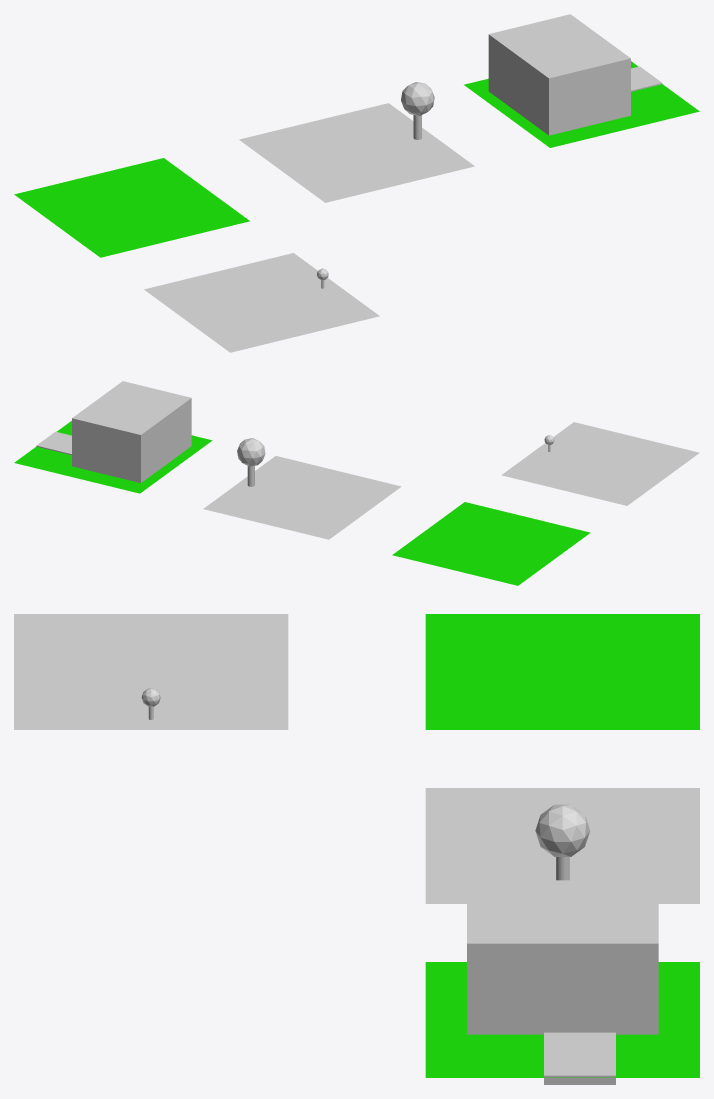
Rendered from tiles.fbx.
3 views of the same model, one above another, from view 1: azimuth 30°, elevation 25°; view 2: azimuth 150°, elevation 25°; view 3: azimuth 270°, elevation 25° (orthographic). The views are drawn at different scales.
Visible parts, largest first — view 1: Forest, Cube, Sapling, Plains, House; view 2: Forest, Cube, Sapling, Plains, House, Cube.001; view 3: Plains, Sapling, Cube, Forest, House, Cube.001.
Part boxes in pixels (x1,y1,x2,y2): Forest: (239, 82, 474, 202); Cube: (488, 14, 630, 135); Sapling: (144, 253, 379, 352); Plains: (14, 158, 249, 257); House: (464, 61, 699, 147); Forest: (203, 438, 401, 539); Cube: (72, 381, 191, 482); Sapling: (501, 422, 699, 505); Plains: (392, 502, 590, 585); House: (14, 421, 212, 493); Cube.001: (36, 431, 71, 455); Plains: (425, 614, 699, 729); Sapling: (14, 614, 288, 729); Cube: (467, 880, 658, 1034); Forest: (425, 788, 699, 903); House: (425, 962, 699, 1077); Cube.001: (544, 1032, 615, 1084).
Bounding box in the file's own units: 800 × 78.79 × 500.
